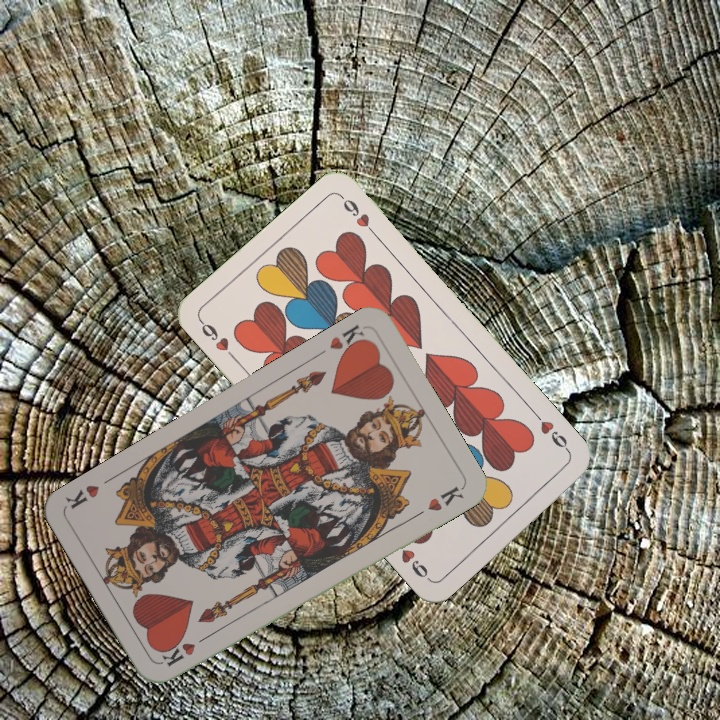H9: (530, 408, 574, 457), (196, 316, 240, 364)
HK: (157, 630, 213, 669), (325, 320, 371, 359)
